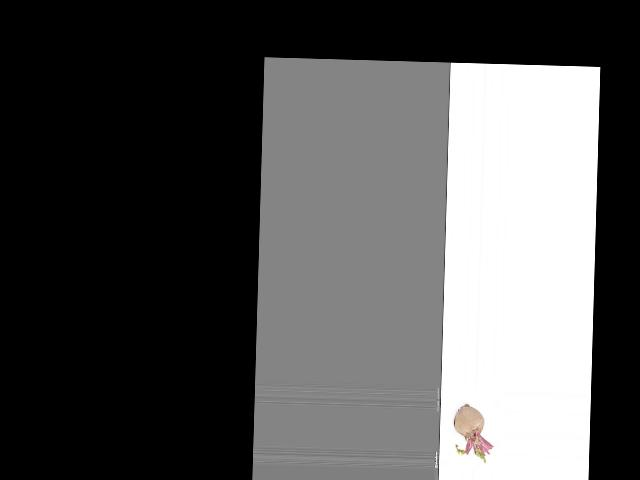beet: (452, 403, 494, 462)
